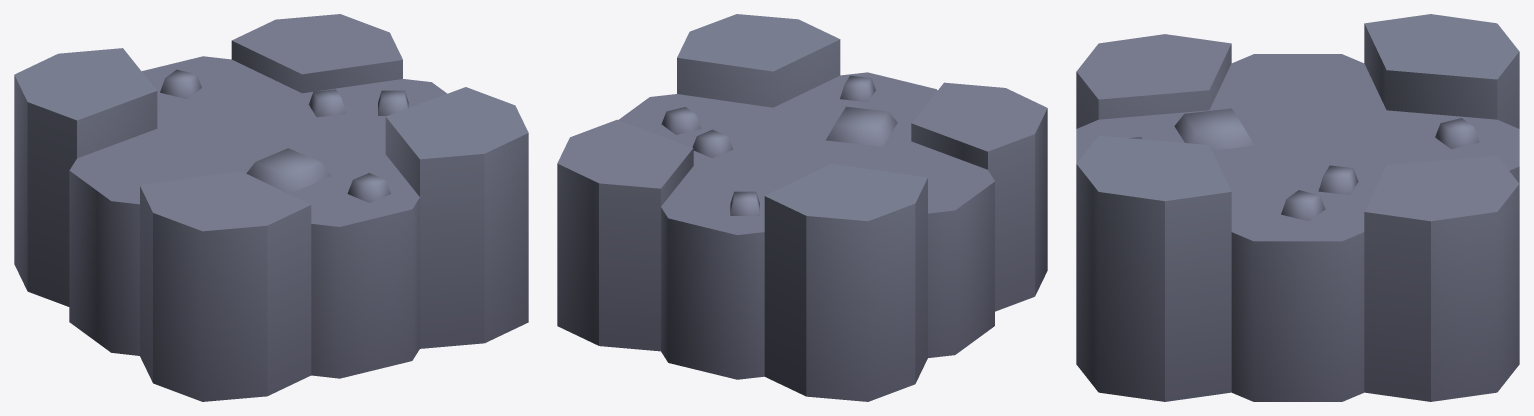
File: rocks_lev5.glb
The picture shows the model from 3 angles, left to right: view 1: azimuth 30°, elevation 25°; view 2: azimuth 150°, elevation 25°; view 3: azimuth 270°, elevation 25°; orthographic projection. The views are drawn at different scales.
Visible parts, largest first — view 1: rocks_lev5; view 2: rocks_lev5; view 3: rocks_lev5.
Boxes of the visible parts, x1,y1,x2,y2 form: rocks_lev5: (14,14,528,401); rocks_lev5: (557,14,1047,401); rocks_lev5: (1076,14,1519,401).
Size of the model in its own units: 4 by 2 by 4.
1 material, 1 textured.
